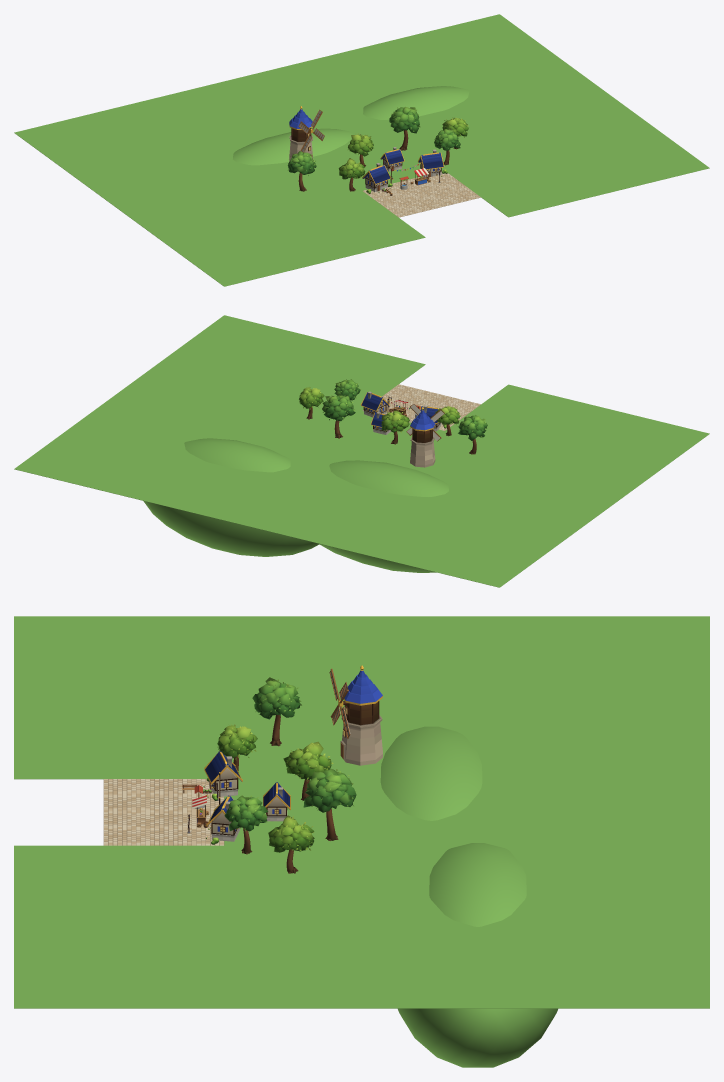
The model's file is village.glb.
3 views of the same model, one above another, from view 1: azimuth 30°, elevation 25°; view 2: azimuth 150°, elevation 25°; view 3: azimuth 270°, elevation 25° (orthographic). The views are drawn at different scales.
Visible parts, largest first — view 1: Lawn, LawnL, LawnR, Floor, Hill2, Hill, FloorGrout, Windmill, Tree3, Tree5, CottageL, Tree1 (+3 smaller); view 2: Lawn, LawnL, LawnR, Hill2, Hill, Floor, Windmill, FloorGrout, Tree3, Tree5, Tree2, CottageR (+1 smaller); view 3: Lawn, LawnR, LawnL, Hill2, Hill, Floor, FloorGrout, Windmill, Tree3, Tree5, Tree4, Tree1 (+5 smaller).
Part boxes in pixels (x1=…): Lawn: x1=14, y1=14, x2=645, y2=239; LawnL: x1=161, y1=191, x2=425, y2=286; LawnR: x1=447, y1=121, x2=709, y2=217; Floor: x1=363, y1=172, x2=480, y2=217; Hill2: x1=363, y1=86, x2=469, y2=119; Hill: x1=233, y1=128, x2=352, y2=165; FloorGrout: x1=363, y1=172, x2=480, y2=217; Windmill: x1=289, y1=106, x2=313, y2=161; Tree3: x1=389, y1=107, x2=420, y2=150; Tree5: x1=287, y1=151, x2=316, y2=191; CottageL: x1=362, y1=163, x2=390, y2=191; Tree1: x1=434, y1=128, x2=460, y2=165; Lawn: x1=14, y1=362, x2=646, y2=587; LawnL: x1=445, y1=384, x2=709, y2=479; LawnR: x1=161, y1=315, x2=425, y2=410; Hill2: x1=143, y1=438, x2=319, y2=556; Hill: x1=319, y1=460, x2=448, y2=572; Floor: x1=363, y1=384, x2=480, y2=430; Windmill: x1=410, y1=407, x2=435, y2=467; FloorGrout: x1=363, y1=385, x2=480, y2=430; Tree3: x1=322, y1=395, x2=355, y2=438; Tree5: x1=458, y1=415, x2=487, y2=454; Tree2: x1=381, y1=410, x2=409, y2=444; CottageR: x1=360, y1=391, x2=389, y2=417; Lawn: x1=224, y1=616, x2=709, y2=1008; LawnR: x1=14, y1=845, x2=224, y2=1008; LawnL: x1=14, y1=616, x2=224, y2=779; Hill2: x1=398, y1=843, x2=557, y2=1067; Hill: x1=380, y1=726, x2=482, y2=820; Floor: x1=104, y1=779, x2=223, y2=845; FloorGrout: x1=103, y1=779, x2=224, y2=845; Windmill: x1=340, y1=665, x2=382, y2=765; Tree3: x1=303, y1=769, x2=356, y2=840; Tree5: x1=252, y1=677, x2=301, y2=746; Tree4: x1=268, y1=815, x2=314, y2=873; Tree1: x1=224, y1=795, x2=268, y2=854.
Size of the model in its own units: 120 by 35.98 by 90.
